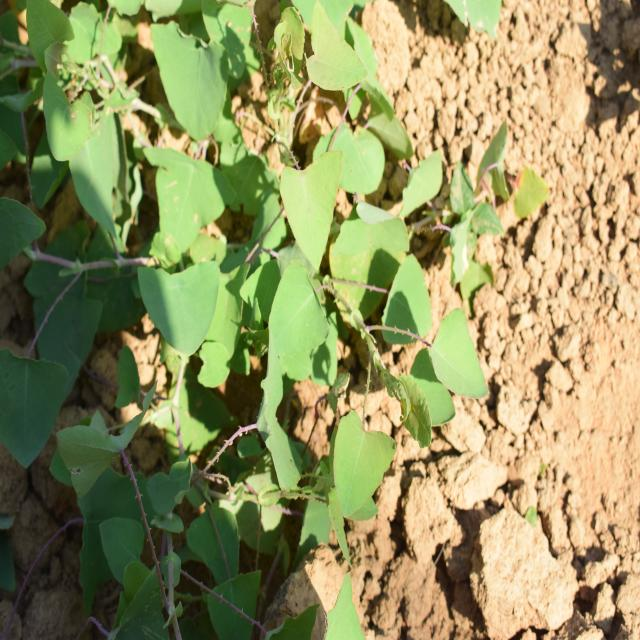Asiatic_Smartweed: (261, 208, 479, 490), (122, 0, 253, 355)
